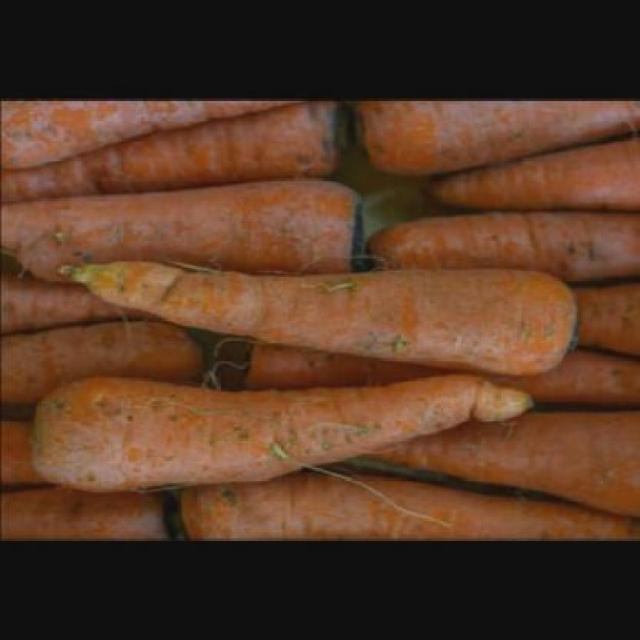carrot: (57, 256, 575, 376), (32, 370, 536, 493), (0, 100, 360, 225), (0, 176, 371, 292), (350, 405, 638, 540), (242, 314, 638, 412), (181, 466, 639, 540), (422, 113, 640, 215), (362, 102, 638, 178), (1, 100, 304, 169), (363, 207, 639, 278), (0, 319, 203, 406), (0, 270, 160, 355), (0, 480, 177, 540), (564, 280, 639, 375), (0, 411, 65, 495)
